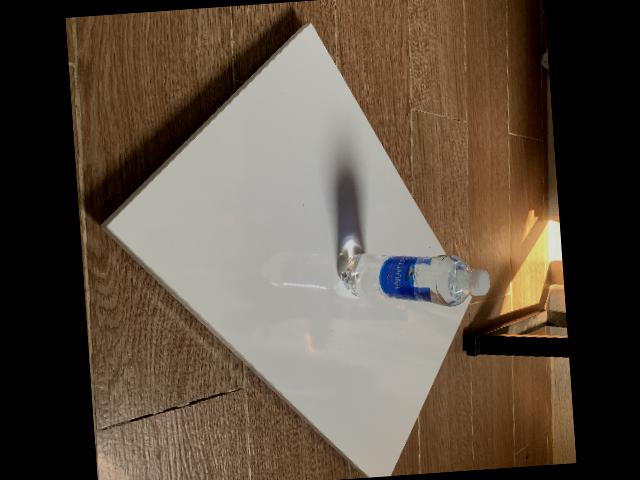aquafina: (337, 253, 489, 306)
